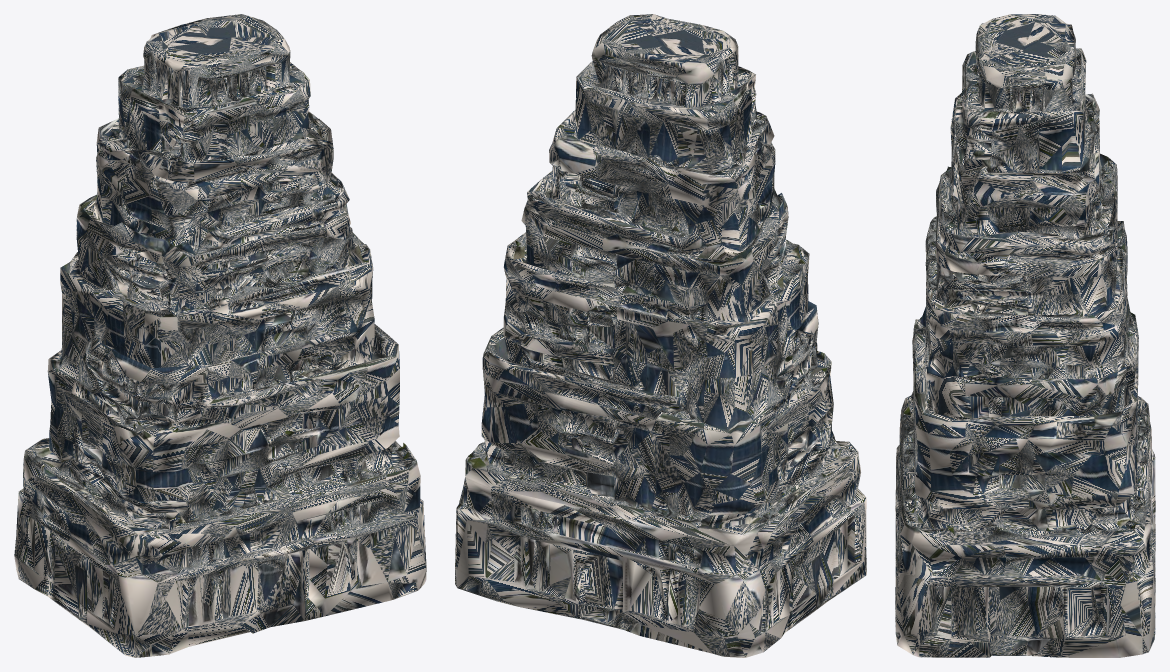
The model's file is tower_stepped.glb.
3 renders of one model, left to right at view 1: azimuth 30°, elevation 25°; view 2: azimuth 150°, elevation 25°; view 3: azimuth 270°, elevation 25°, orthographic.
Parts seen in each view (by area): view 1: Mesh_0; view 2: Mesh_0; view 3: Mesh_0.
Boxes of the visible parts, <box> form: Mesh_0: <box>14,14,426,657</box>; Mesh_0: <box>455,14,866,657</box>; Mesh_0: <box>895,14,1155,657</box>.
Size of the model in its own units: 71.23 by 120 by 52.47.
1 material, 1 textured.
